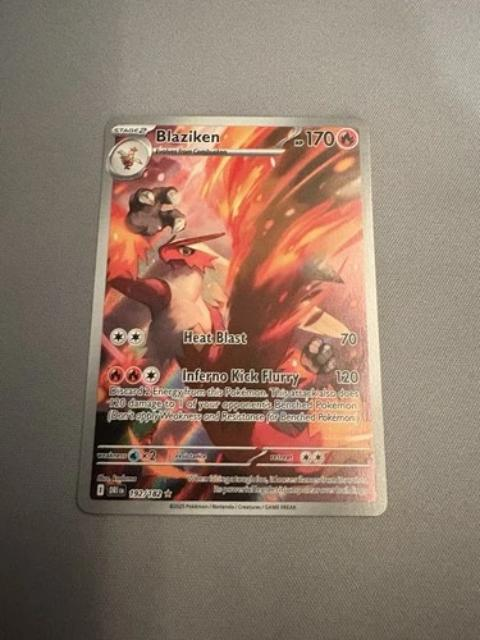Card: (68, 109, 393, 518)
Name: (151, 124, 229, 147)
